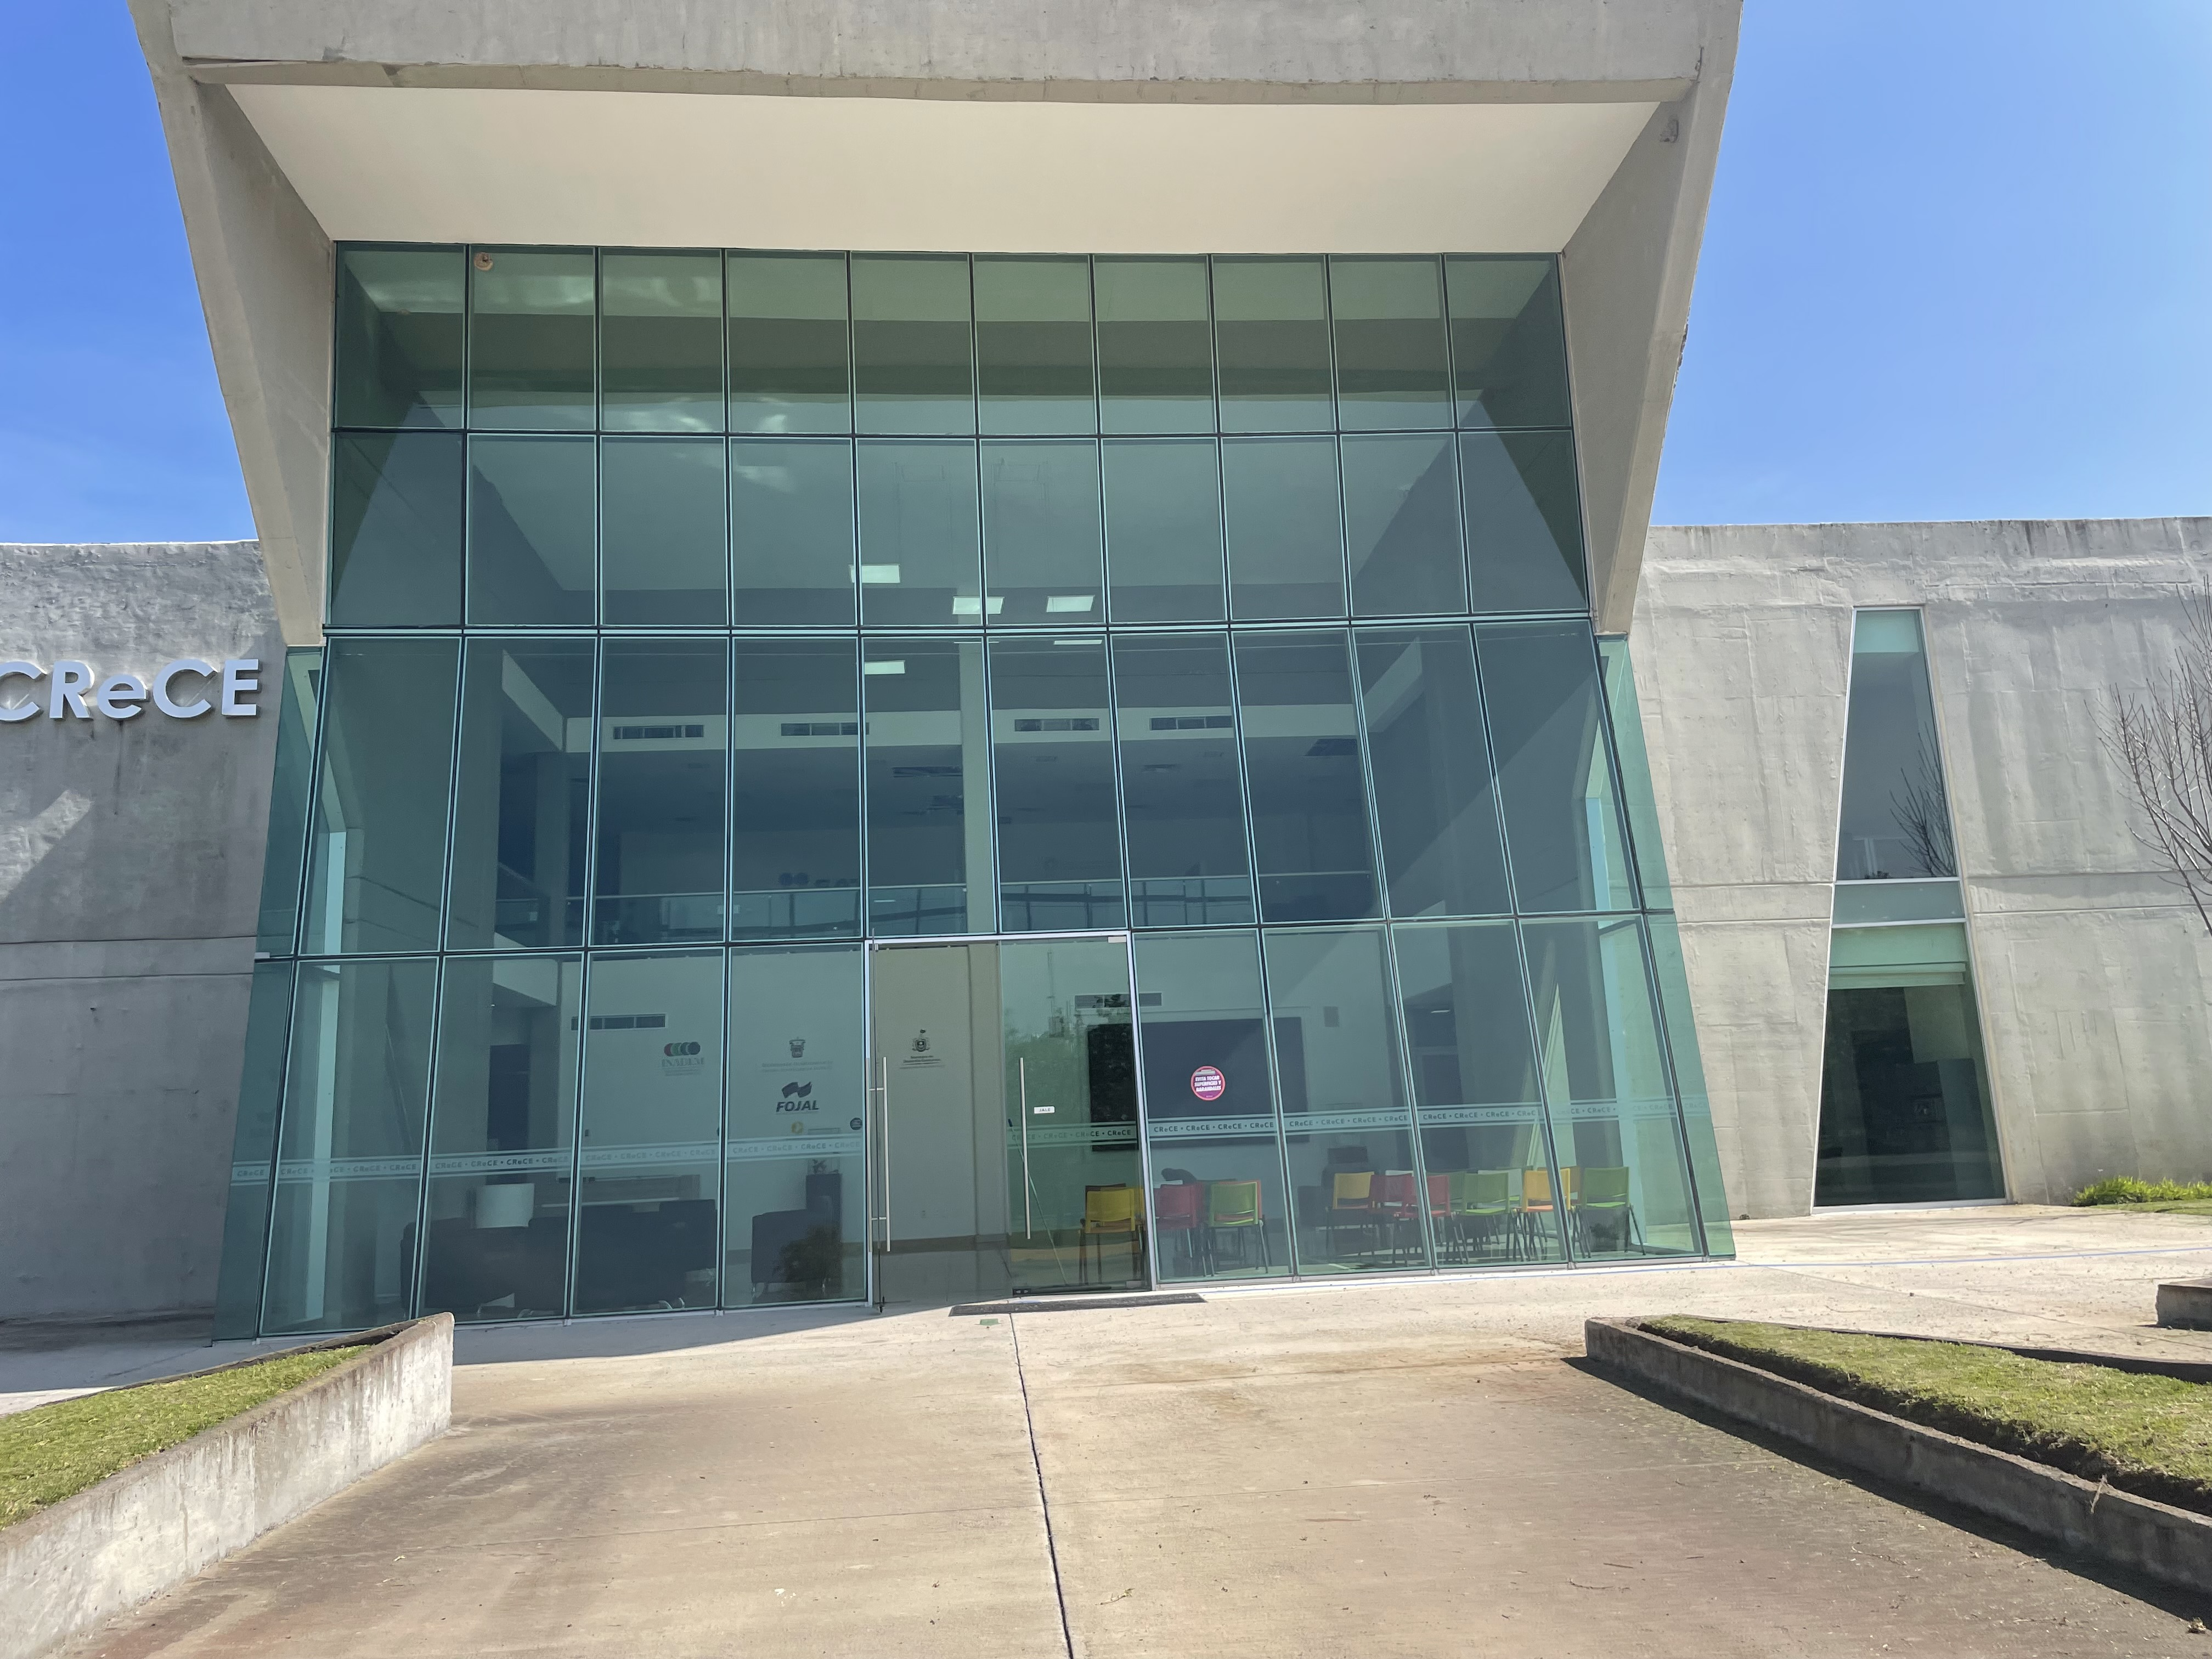crece: (0, 0, 2128, 1309)
